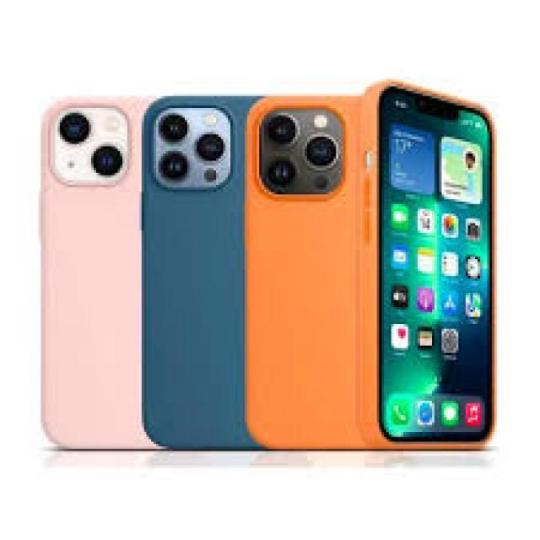phone: (370, 84, 506, 463), (244, 64, 362, 460), (25, 88, 140, 458), (141, 89, 244, 471)
